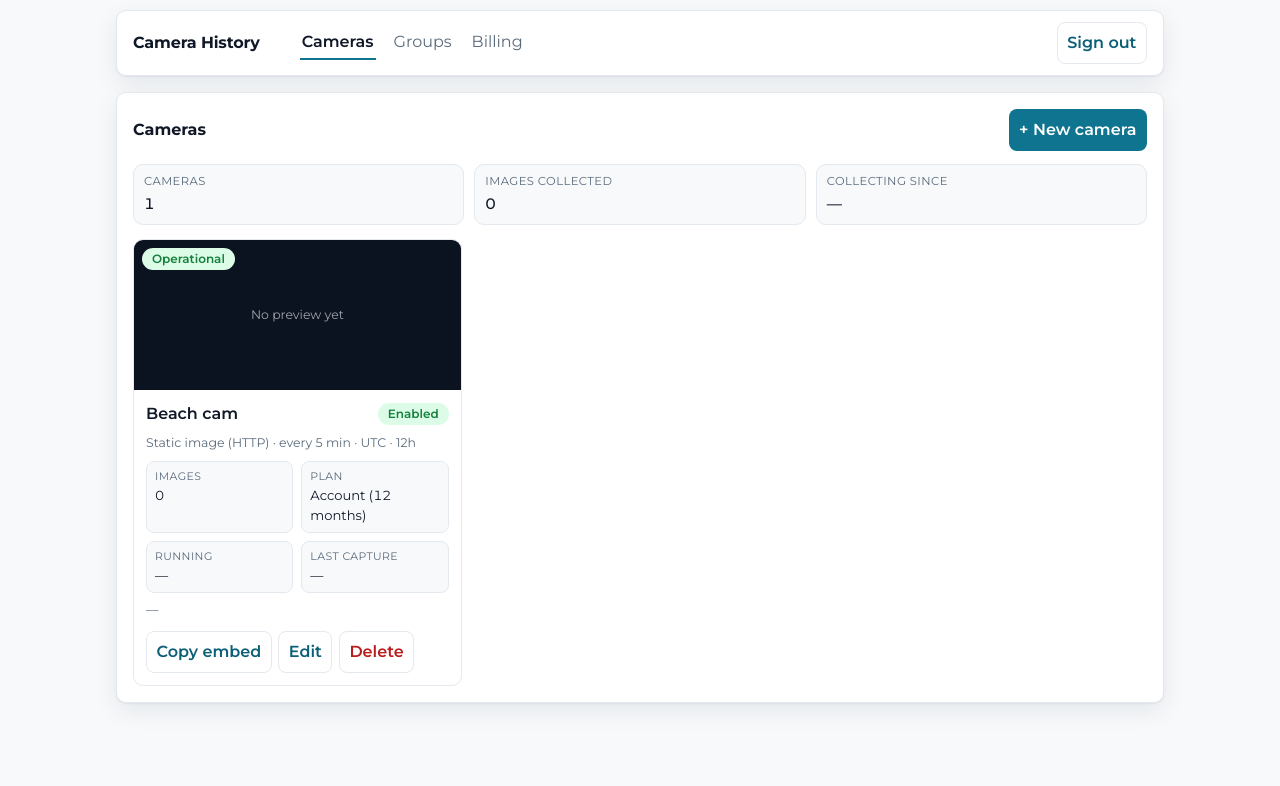
Test: App camera CRUD › requires coordinates when daylight-only is enabled
Expected: the heading "Beach cam" is shown, [146,402,238,426]
Click the button with test id "add-camera" at (1078, 130), box [1008,109,1147,151]
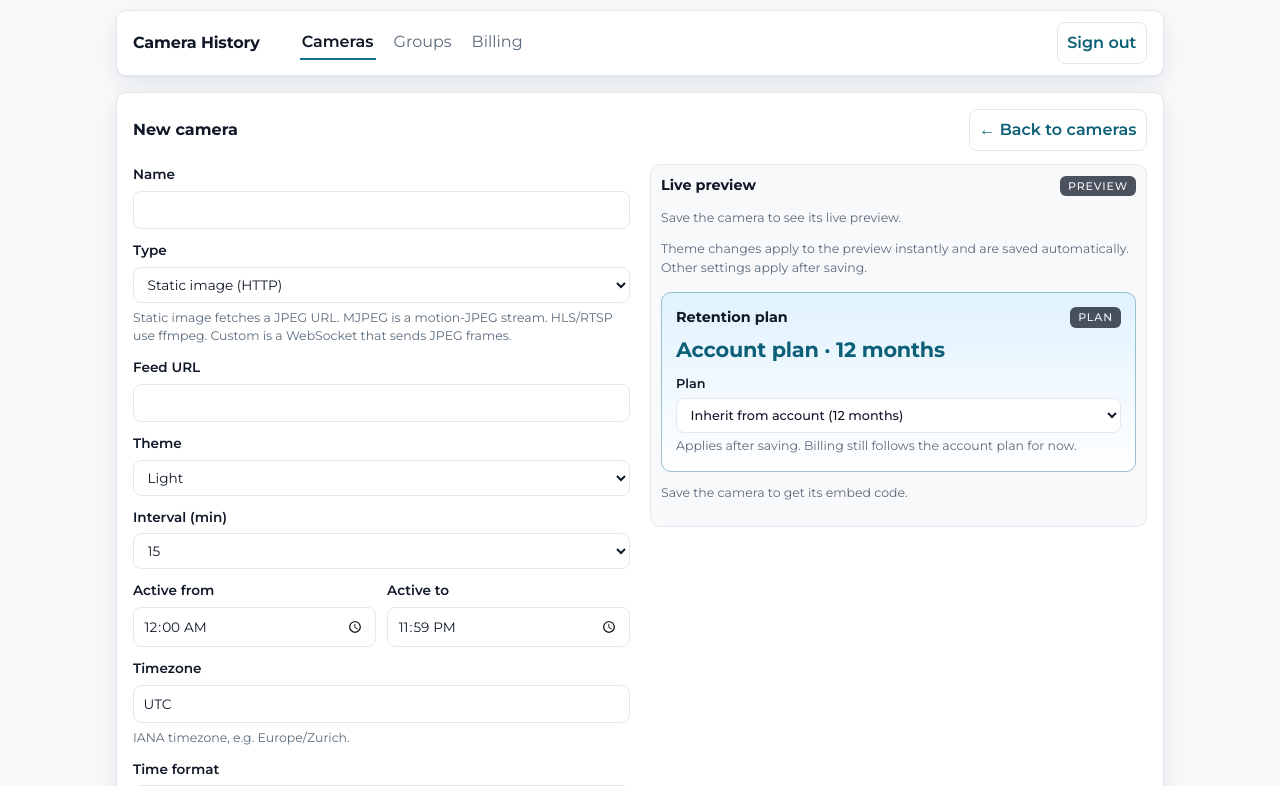
Type "New cam" into the field with test id "form-name" at (382, 210), box [133,191,630,229]
(page scrolled)
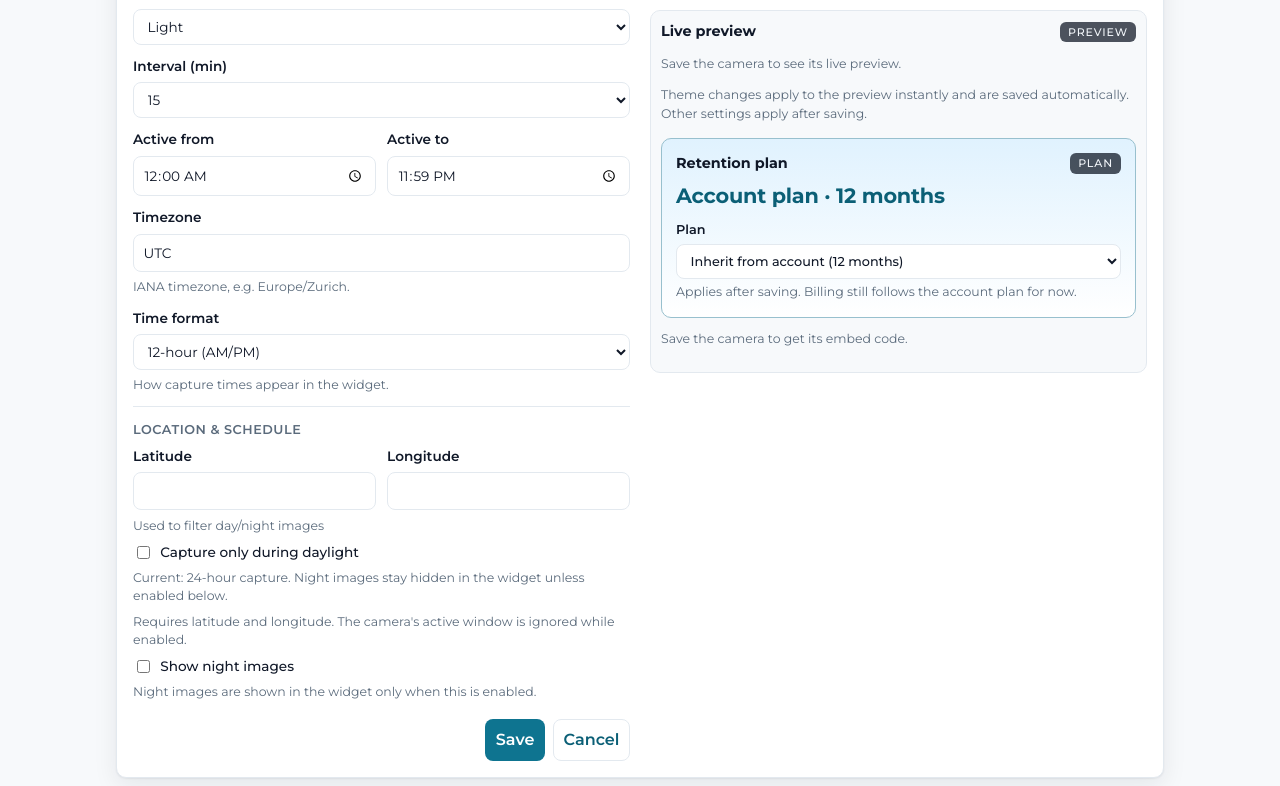
Click the checkbox with test id "form-daylight-only" at (144, 552), box [137,546,150,559]
(page scrolled)
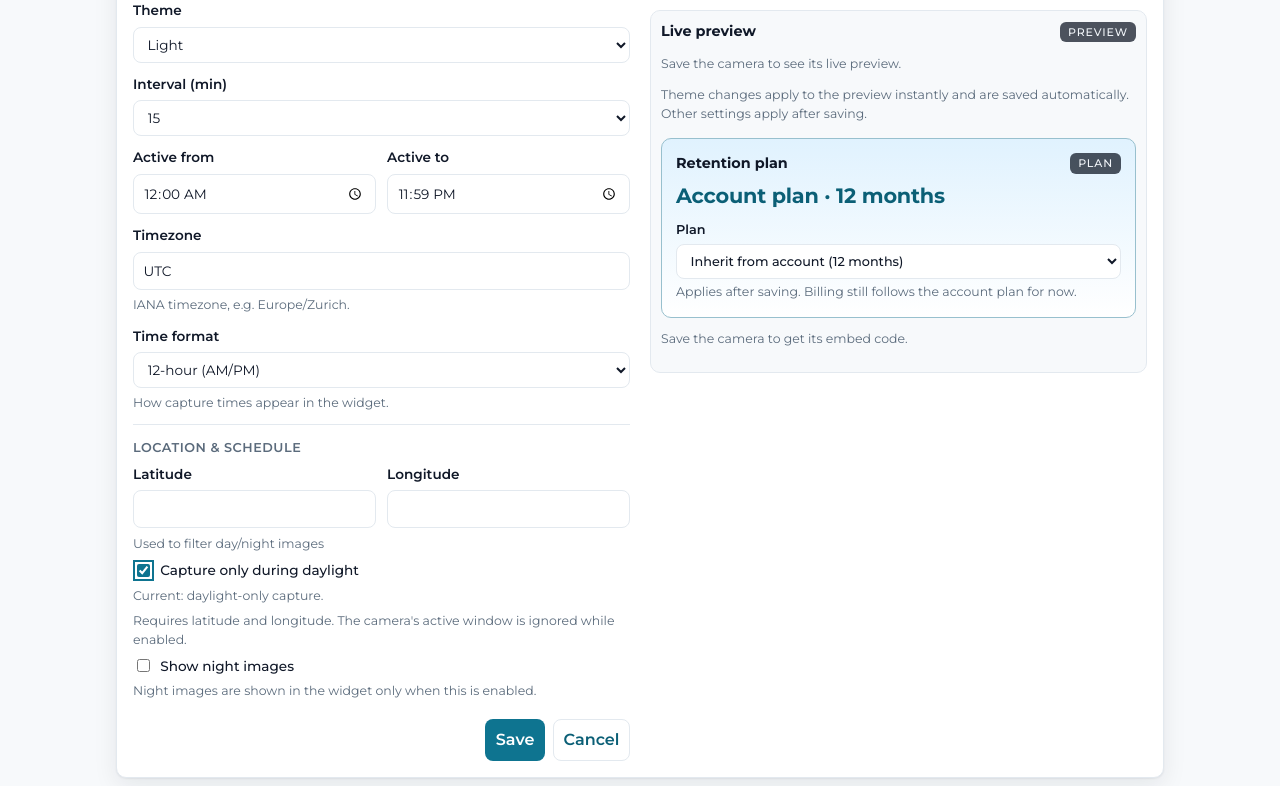
Click the button with test id "form-submit" at (515, 740), box [485,719,545,761]
(page scrolled)
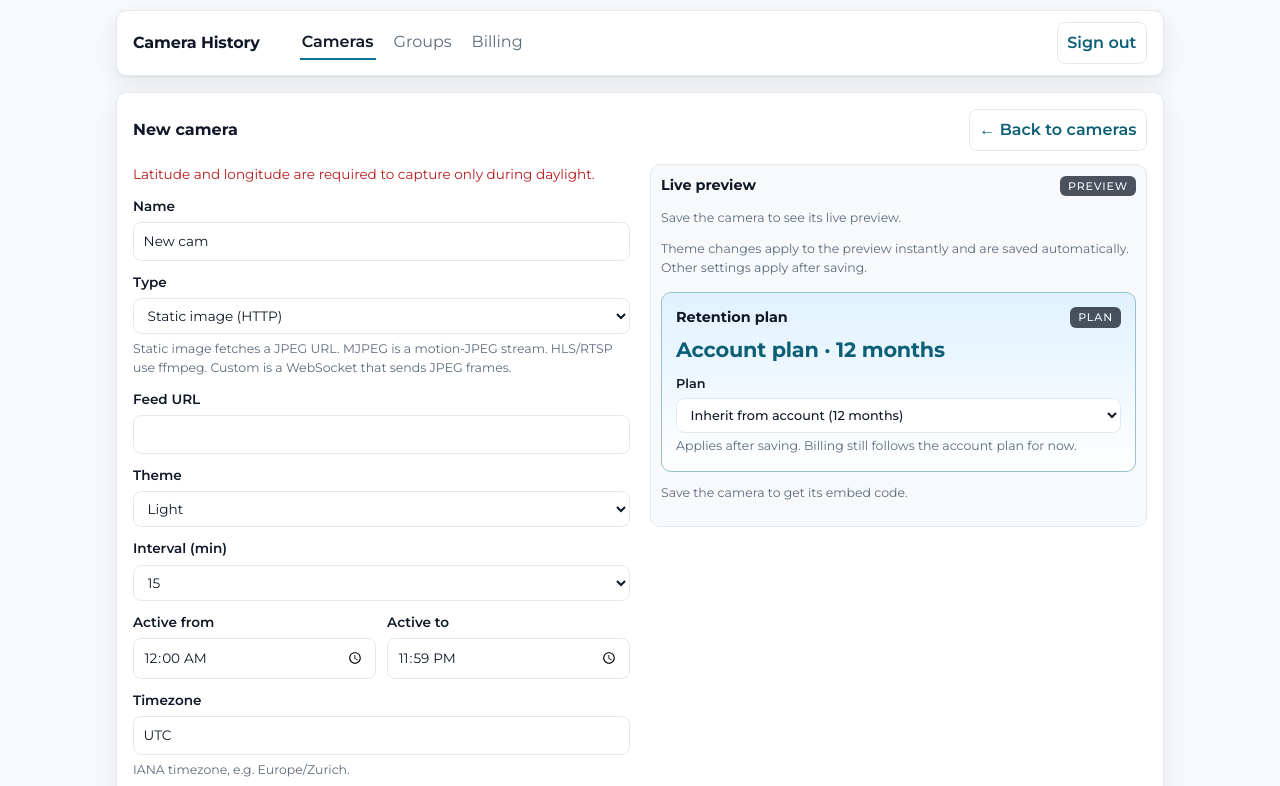
Expected: the text "Latitude and longitude are required to capture only during daylight." is shown, [133,164,630,185]
